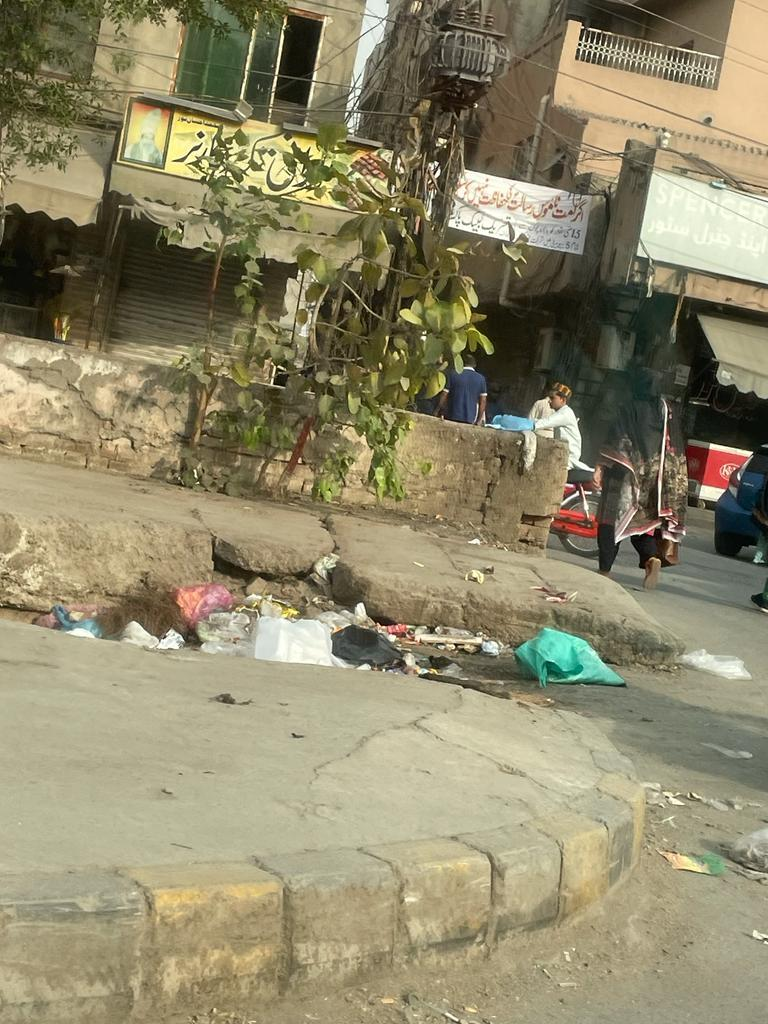garbage: (0, 508, 662, 754)
